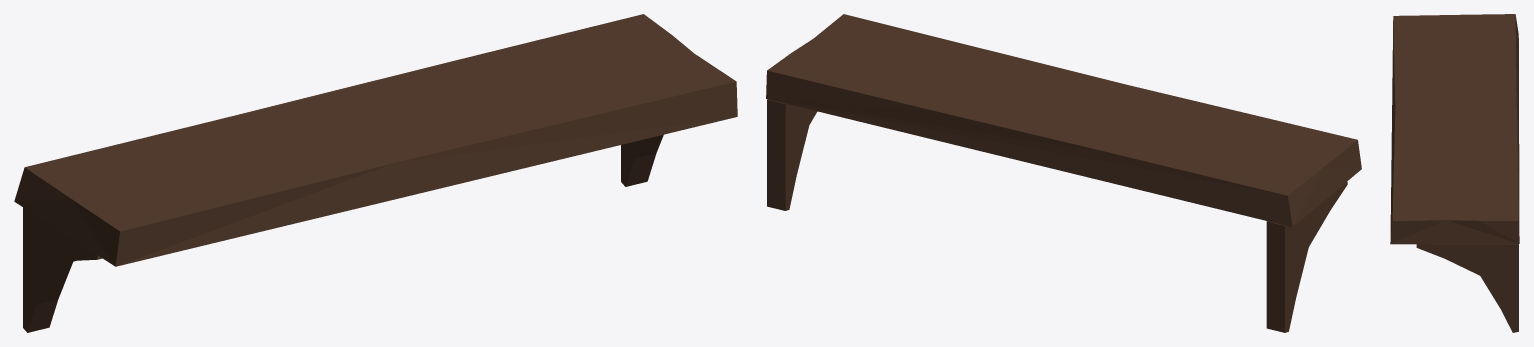
File: Полка.fbx
3 renders of one model, left to right at view 1: azimuth 30°, elevation 25°; view 2: azimuth 150°, elevation 25°; view 3: azimuth 270°, elevation 25°, orthographic. The views are drawn at different scales.
Visible parts, largest first — view 1: Cube.002; view 2: Cube.002; view 3: Cube.002.
Boxes of the visible parts, x1,y1,x2,y2 form: Cube.002: [14, 14, 737, 332]; Cube.002: [766, 14, 1361, 332]; Cube.002: [1390, 14, 1519, 332].
Bounding box in the file's own units: 187 × 46.58 × 48.56.
